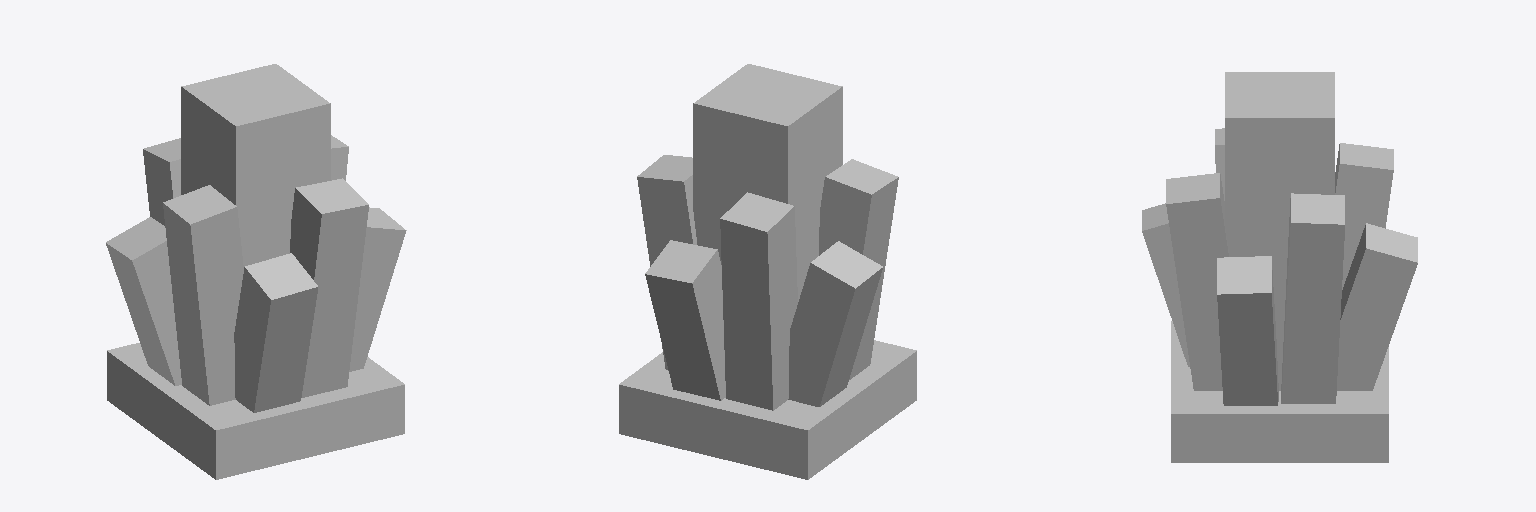
The model's file is prism_light.obj.
3 renders of one model, left to right at view 1: azimuth 30°, elevation 25°; view 2: azimuth 150°, elevation 25°; view 3: azimuth 270°, elevation 25°, orthographic.
Parts seen in each view (by area): view 1: Prism_cube.008; view 2: Prism_cube.008; view 3: Prism_cube.008.
Part boxes in pixels (bbox=[...]): Prism_cube.008: bbox=[106, 64, 406, 479]; Prism_cube.008: bbox=[619, 64, 916, 479]; Prism_cube.008: bbox=[1142, 72, 1417, 462].
Size of the model in its own units: 0.6321 by 0.8125 by 0.6323.